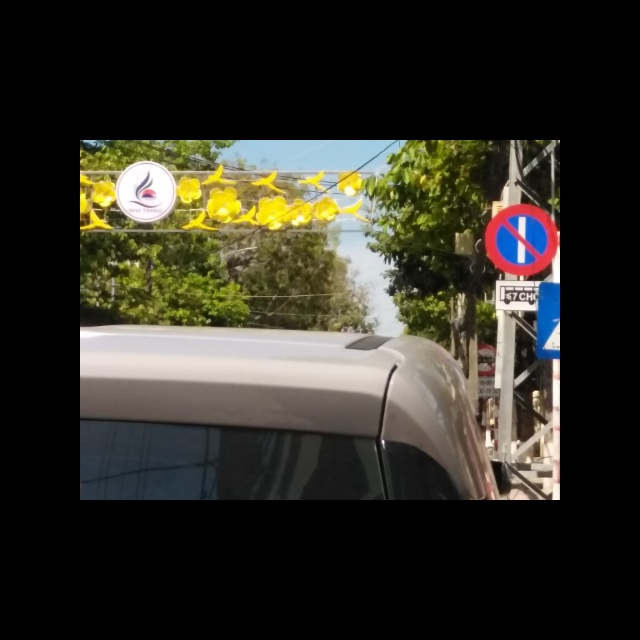Cấm đỗ xe ngày lẻ: (481, 204, 558, 279)
